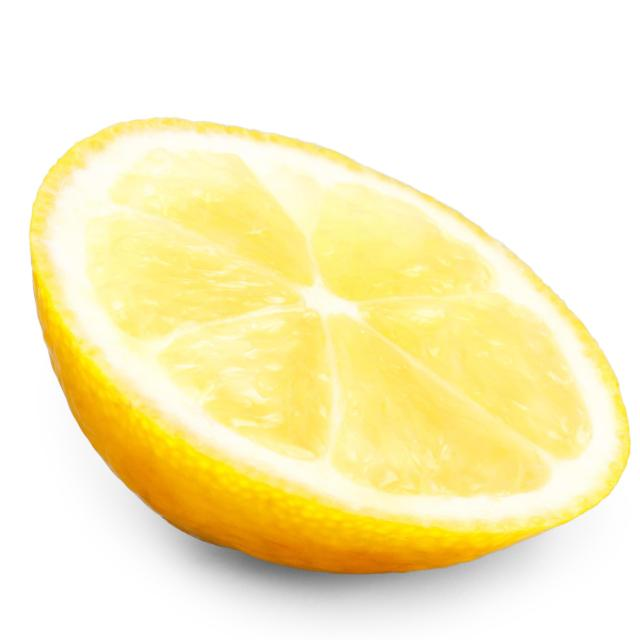lemon: (13, 102, 636, 594)
